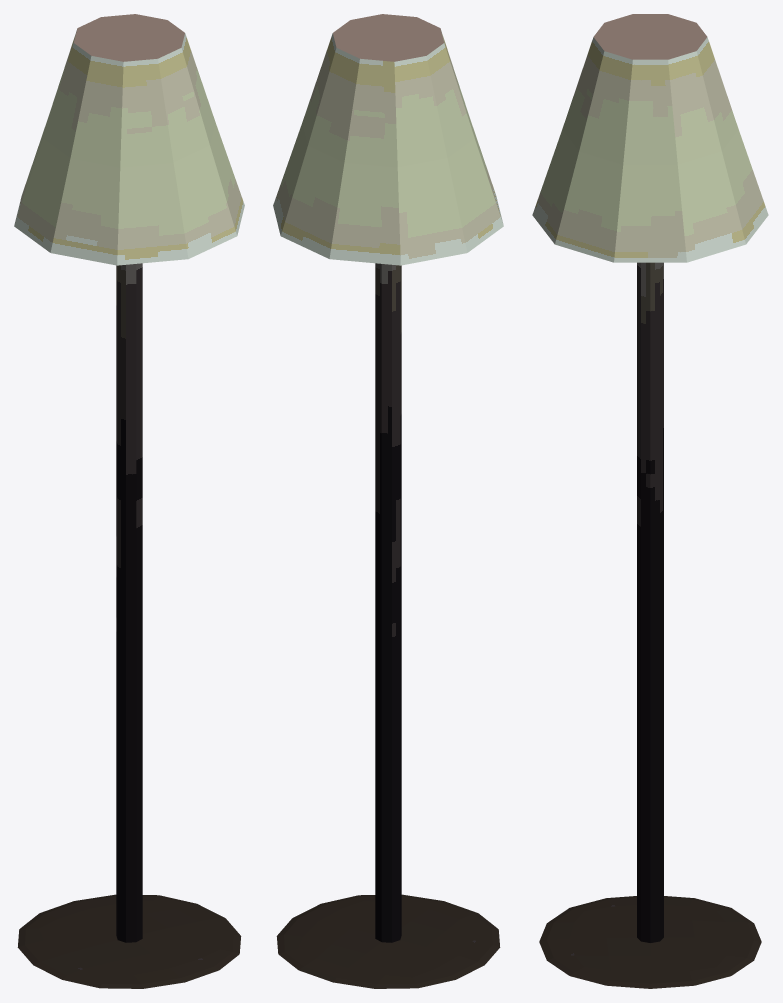
File: lamp_reup_2.fbx
The picture shows the model from 3 angles, left to right: view 1: azimuth 30°, elevation 25°; view 2: azimuth 150°, elevation 25°; view 3: azimuth 270°, elevation 25°; orthographic projection.
Visible parts, largest first — view 1: Cube; view 2: Cube; view 3: Cube.
Boxes of the visible parts, x1,y1,x2,y2 form: Cube: (14, 14, 244, 988); Cube: (273, 14, 503, 988); Cube: (532, 14, 768, 988).
Size of the model in its own units: 238 by 1063 by 250.
1 material, 1 textured.
